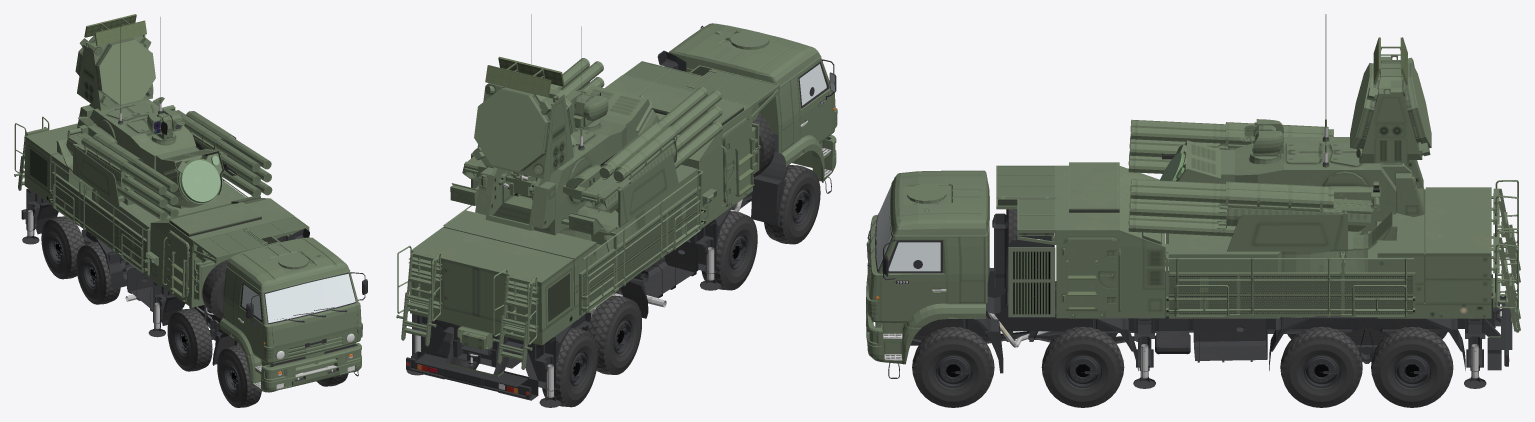
3 renders of one model, left to right at view 1: azimuth 30°, elevation 25°; view 2: azimuth 150°, elevation 25°; view 3: azimuth 270°, elevation 25°, orthographic. The views are drawn at different scales.
Visible parts, largest first — view 1: [Imported] $body, Turret_19, Turret_37, [Imported] $wheel3, [Imported] $wheel5, [Imported] $wheel1, [Imported] $wheel4, [Imported] $canopy1, [Imported] $canopy4, Turret_21, Turret_23, [Imported] $hatch0 (+1 smaller); view 2: [Imported] $body, Turret_19, Turret_37, [Imported] $wheel4, [Imported] $wheel5, [Imported] $wheel1, [Imported] $wheel3, [Imported] $canopy1, [Imported] $canopy4, Turret_21, [Imported] $hatch0, Turret_23 (+1 smaller); view 3: [Imported] $body, Turret_19, Turret_37, [Imported] $wheel5, [Imported] $wheel4, [Imported] $wheel0, [Imported] $wheel2, [Imported] $canopy0, [Imported] $canopy3, Turret_21, Turret_23, [Imported] $hatch0 (+1 smaller).
Boxes of the visible parts, <box> form: [Imported] $body: <box>14,116,362,400</box>; Turret_19: <box>56,14,224,208</box>; Turret_37: <box>66,110,272,220</box>; [Imported] $wheel3: <box>167,308,212,371</box>; [Imported] $wheel5: <box>41,216,84,279</box>; [Imported] $wheel1: <box>217,345,261,407</box>; [Imported] $wheel4: <box>76,242,120,304</box>; [Imported] $canopy1: <box>238,280,263,361</box>; [Imported] $canopy4: <box>166,231,189,298</box>; Turret_21: <box>67,97,260,204</box>; Turret_23: <box>147,109,184,134</box>; [Imported] $hatch0: <box>22,210,165,337</box>; [Imported] $body: <box>396,23,837,400</box>; Turret_19: <box>450,14,678,235</box>; Turret_37: <box>462,58,722,212</box>; [Imported] $wheel4: <box>587,295,641,374</box>; [Imported] $wheel5: <box>449,328,598,407</box>; [Imported] $wheel1: <box>764,165,820,244</box>; [Imported] $wheel3: <box>701,211,757,290</box>; [Imported] $canopy1: <box>797,59,836,143</box>; [Imported] $canopy4: <box>722,119,754,203</box>; Turret_21: <box>464,77,616,202</box>; [Imported] $hatch0: <box>406,247,721,407</box>; Turret_23: <box>566,89,608,121</box>; [Imported] $body: <box>866,162,1520,378</box>; Turret_19: <box>1159,14,1431,251</box>; Turret_37: <box>1128,119,1372,236</box>; [Imported] $wheel5: <box>1371,326,1453,407</box>; [Imported] $wheel4: <box>1280,326,1362,407</box>; [Imported] $wheel0: <box>912,326,994,407</box>; [Imported] $wheel2: <box>1041,327,1124,407</box>; [Imported] $canopy0: <box>881,239,946,323</box>; [Imported] $canopy3: <box>1063,239,1116,311</box>; Turret_21: <box>1129,143,1380,212</box>; Turret_23: <box>1240,119,1283,153</box>; [Imported] $hatch0: <box>1133,344,1486,388</box>.
Size of the model in its own units: 2.99 by 6.38 by 10.81.
1 material, 1 textured.
